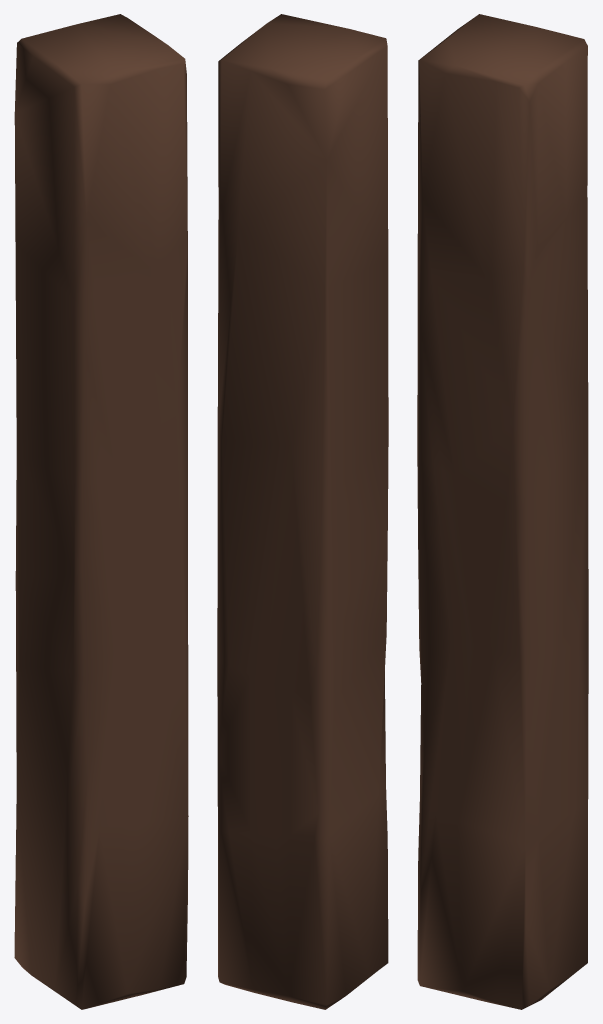
File: FencePost.fbx
3 renders of one model, left to right at view 1: azimuth 30°, elevation 25°; view 2: azimuth 150°, elevation 25°; view 3: azimuth 330°, elevation 25°, orthographic.
Visible parts, largest first — view 1: postLp; view 2: postLp; view 3: postLp.
Part boxes in pixels (x1,y1,x2,y2): postLp: (14, 14, 188, 1009); postLp: (217, 14, 388, 1009); postLp: (417, 14, 588, 1009).
Size of the model in its own units: 29.19 by 228 by 29.63.
